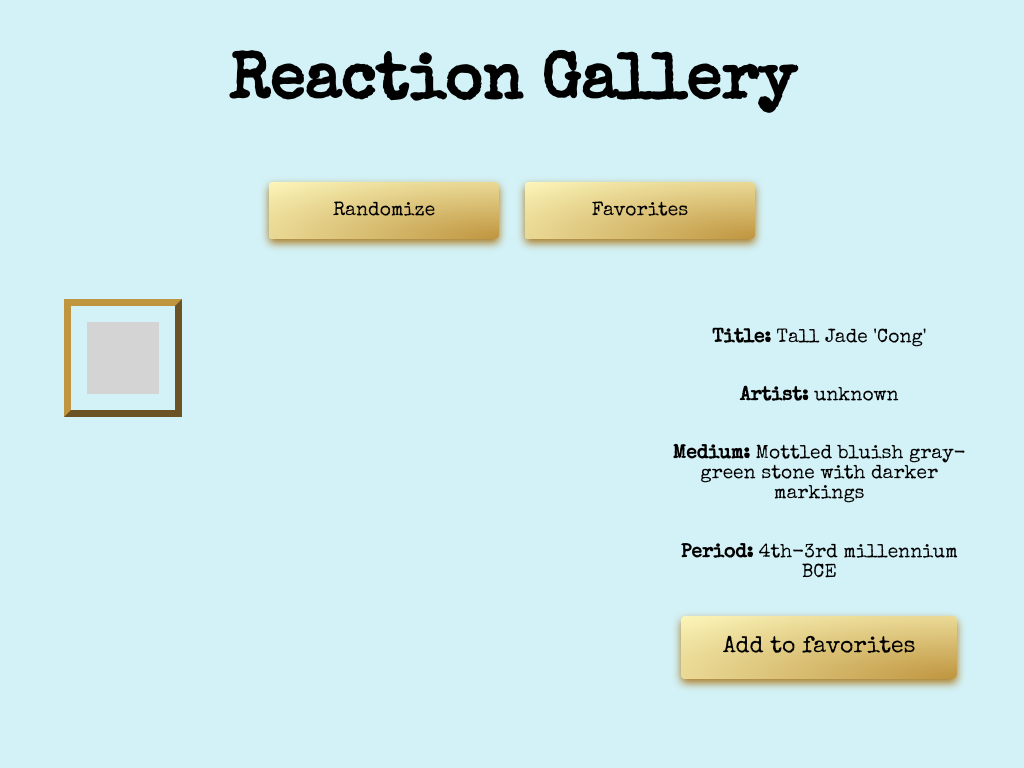
Test case: Reaction Gallery homepage › Should be able to display another art after randomize
Step 1. Click the button with class "random-btn" → point(384, 211), box [269,182,499,240]
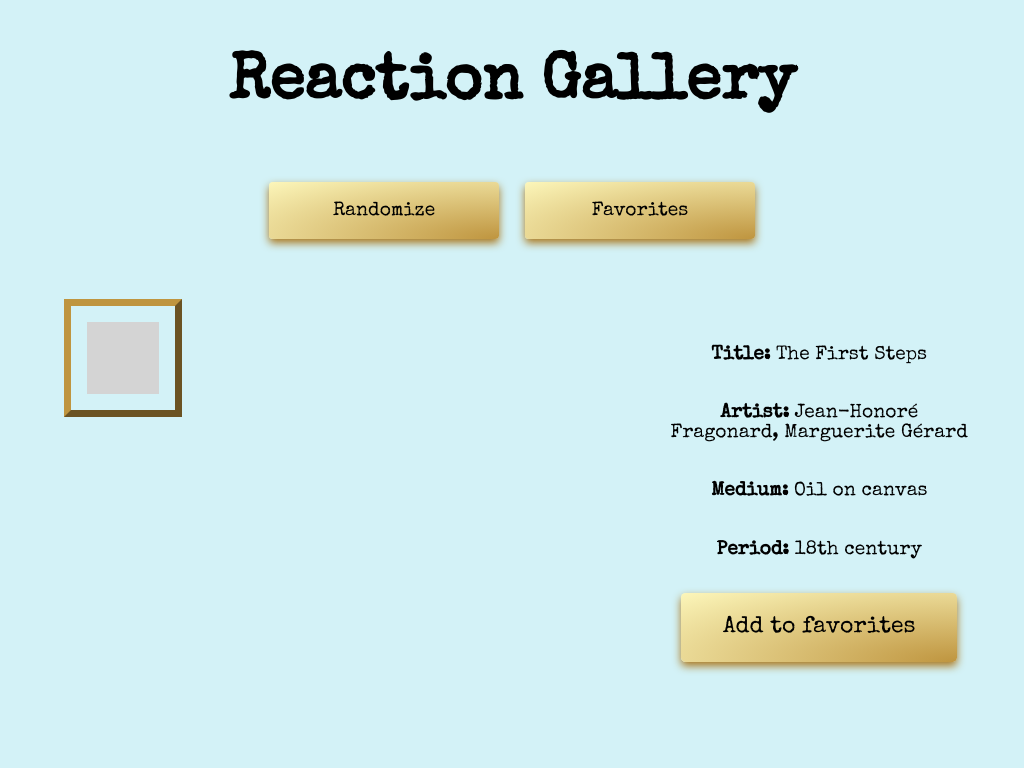
Check: the element with class "art-title" reads "Title: The First Steps", box [711,345,927,365]
Check: the element with class "art-artist" reads "Artist: Jean-Honoré Fragonard, Marguerite Gérard", box [666,403,973,443]
Check: the element with class "art-medium" reads "Medium: Oil on canvas", box [711,481,928,501]
